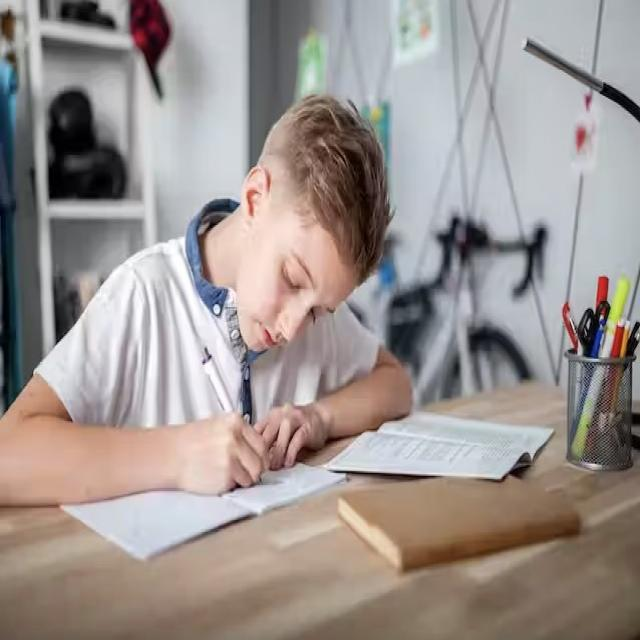studying-person: (0, 85, 561, 590)
